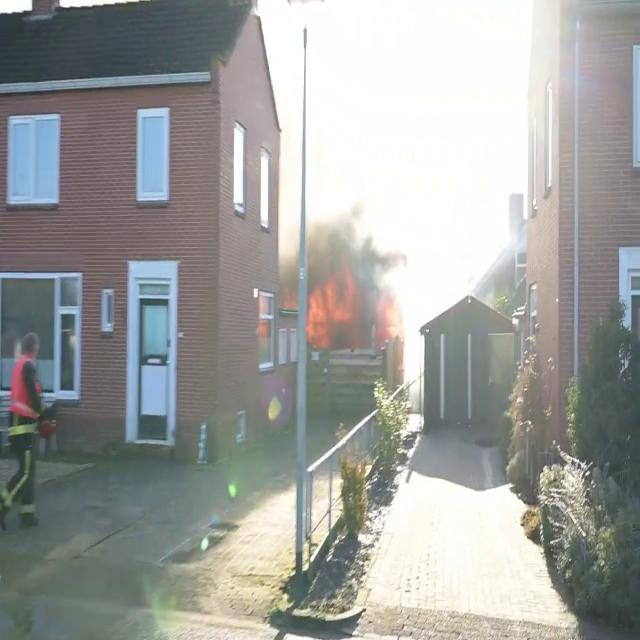Fire: (304, 271, 354, 346)
Smoke: (278, 184, 391, 284)
